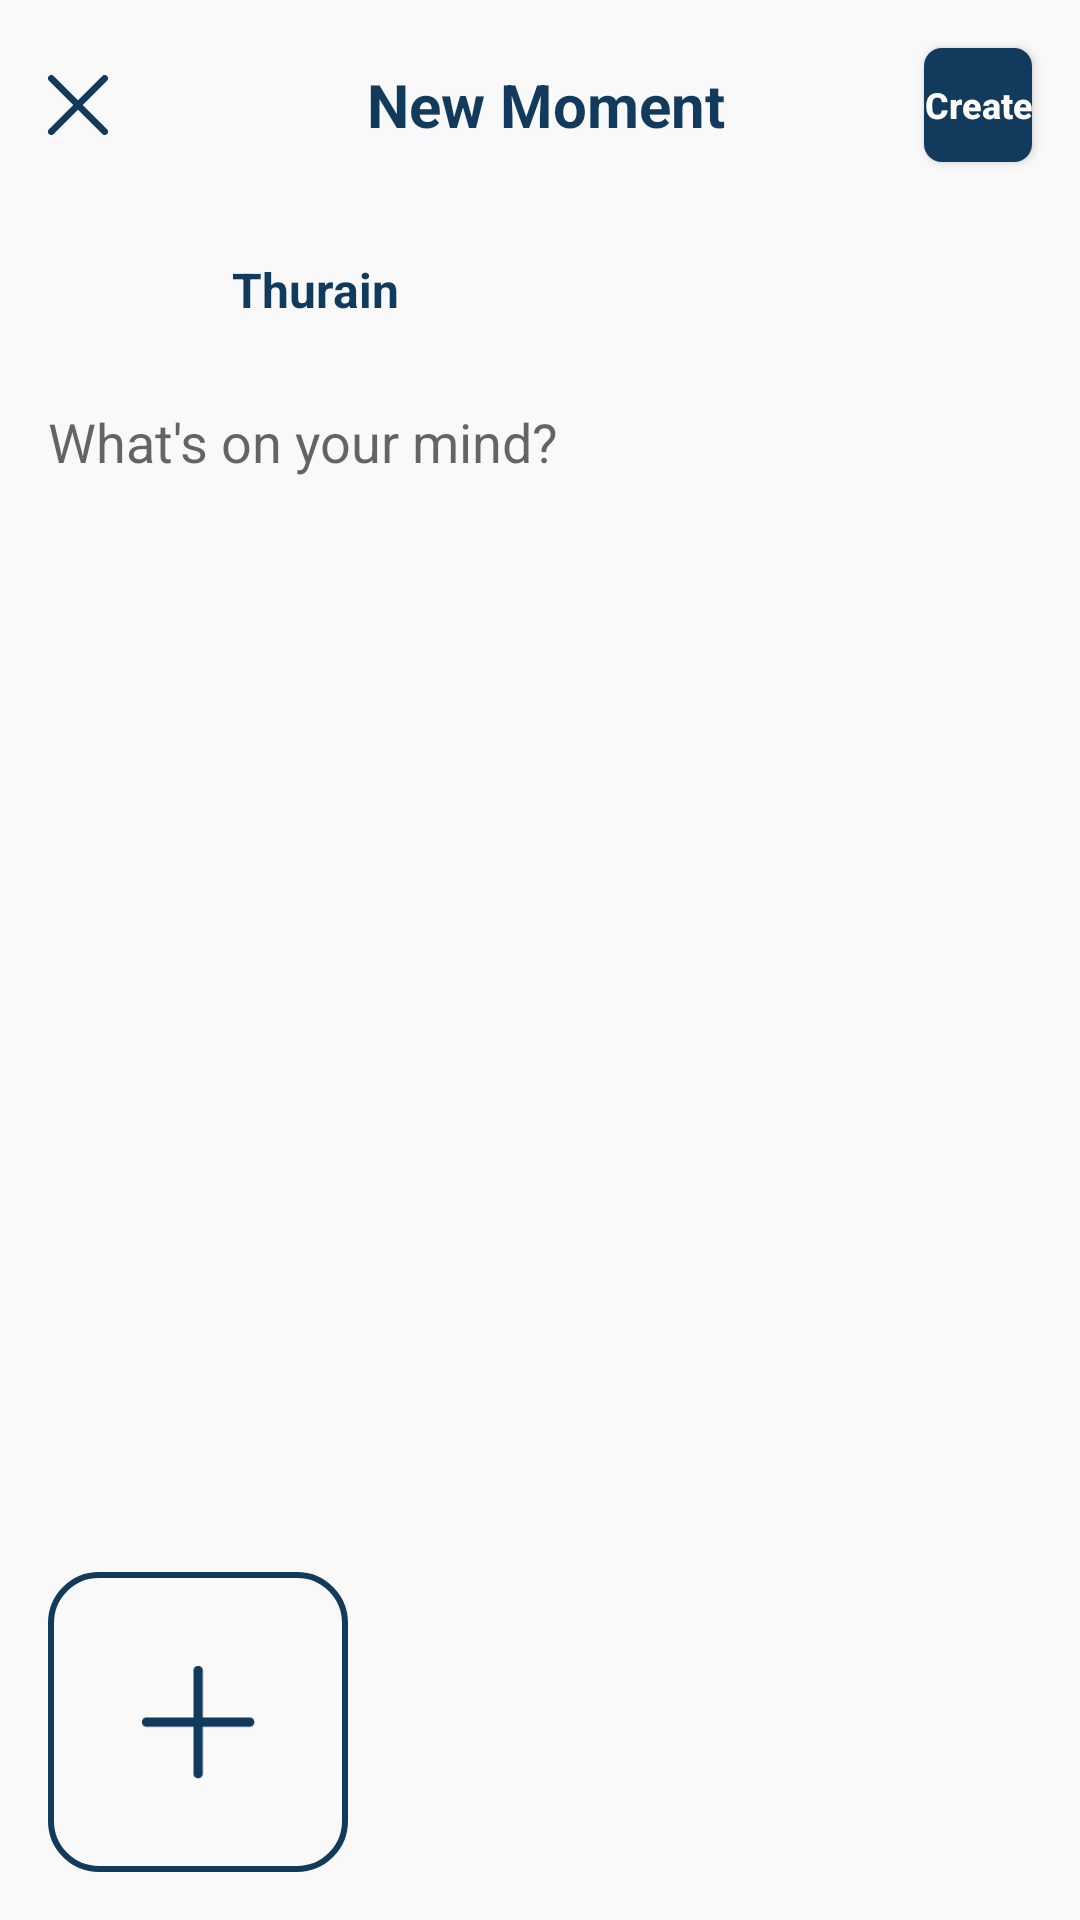

Named icons in this screenshot (1080*1920) and their bounding boxes, (x1, y1, x2, y2):
add: (48, 1572, 348, 1872)
dismiss: (48, 75, 108, 135)
